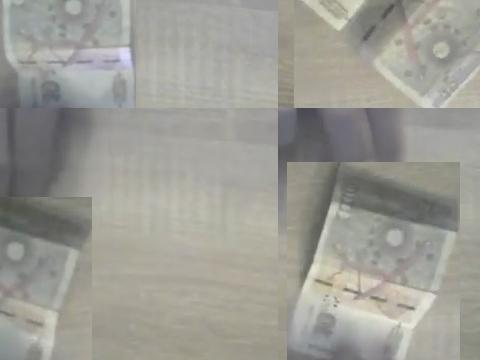10leva: (287, 162, 460, 360), (0, 197, 92, 360), (1, 0, 136, 108)
